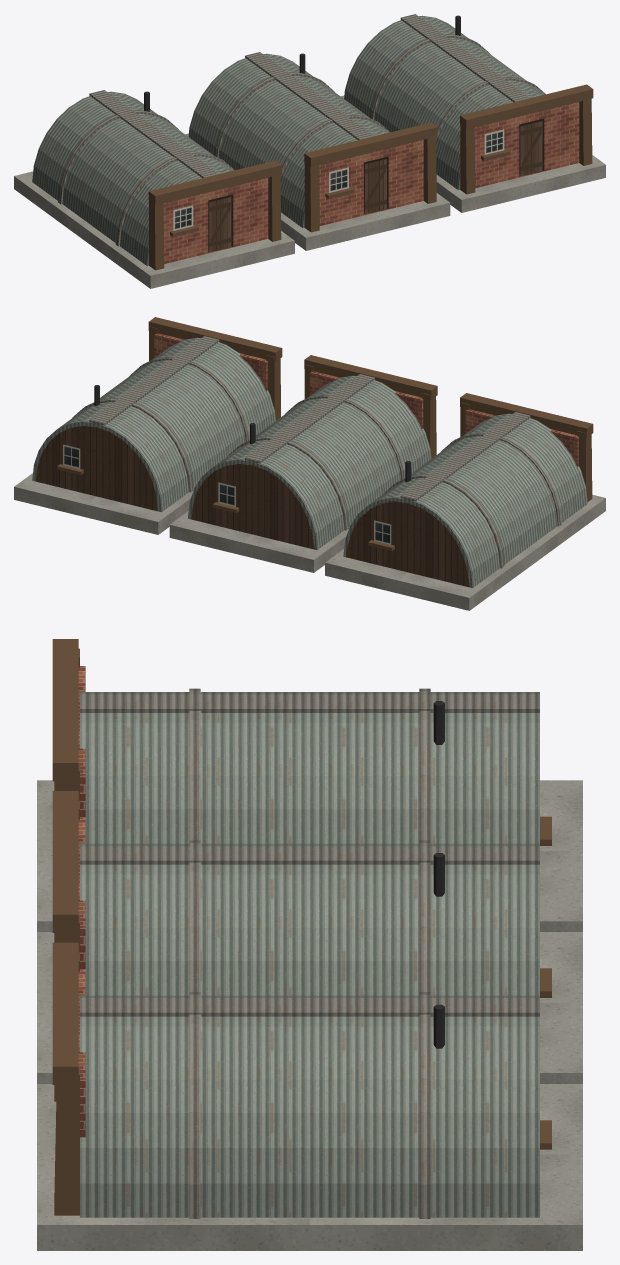
File: city.glb
The picture shows the model from 3 angles, top to bottom: view 1: azimuth 30°, elevation 25°; view 2: azimuth 150°, elevation 25°; view 3: azimuth 270°, elevation 25°; orthographic projection. The views are drawn at different scales.
Parts seen in each view (by area): view 1: coque (×3), facade_brique (×3), dalle (×3), linteau (×3), couvre_joint (×3), jambage (×6), porte (×3), nervure (×6), fenetre (×3); view 2: coque (×3), pignon_arriere (×3), dalle (×3), couvre_joint (×3), linteau (×3), nervure (×6), facade_brique (×3), jambage (×3); view 3: coque (×3), dalle (×3), couvre_joint (×3), nervure (×6), linteau (×3), jambage, facade_brique.
Boxes of the visible parts, left/top/right/bottom form: coque (×3): left=32, top=15, right=544, bottom=266; facade_brique (×3): left=163, top=102, right=579, bottom=263; dalle (×3): left=14, top=95, right=605, bottom=288; linteau (×3): left=148, top=84, right=593, bottom=204; couvre_joint (×3): left=89, top=14, right=530, bottom=177; jambage (×6): left=149, top=98, right=592, bottom=270; porte (×3): left=208, top=118, right=544, bottom=252; nervure (×6): left=58, top=34, right=545, bottom=246; fenetre (×3): left=173, top=129, right=504, bottom=230; coque (×3): left=32, top=337, right=587, bottom=588; pignon_arriere (×3): left=36, top=426, right=469, bottom=587; dalle (×3): left=14, top=473, right=605, bottom=610; couvre_joint (×3): left=89, top=336, right=530, bottom=501; linteau (×3): left=148, top=317, right=593, bottom=437; nervure (×6): left=72, top=356, right=561, bottom=568; facade_brique (×3): left=154, top=333, right=578, bottom=466; jambage (×3): left=266, top=355, right=592, bottom=501; coque (×3): left=80, top=692, right=539, bottom=1217; dalle (×3): left=37, top=780, right=582, bottom=1250; couvre_joint (×3): left=80, top=694, right=539, bottom=1016; nervure (×6): left=189, top=688, right=430, bottom=1218; linteau (×3): left=52, top=639, right=78, bottom=1084; jambage: left=54, top=1066, right=79, bottom=1215; facade_brique: left=78, top=969, right=85, bottom=1137.
Size of the model in its own units: 3.66 by 0.76 by 1.9.
10 materials, 8 textured.
